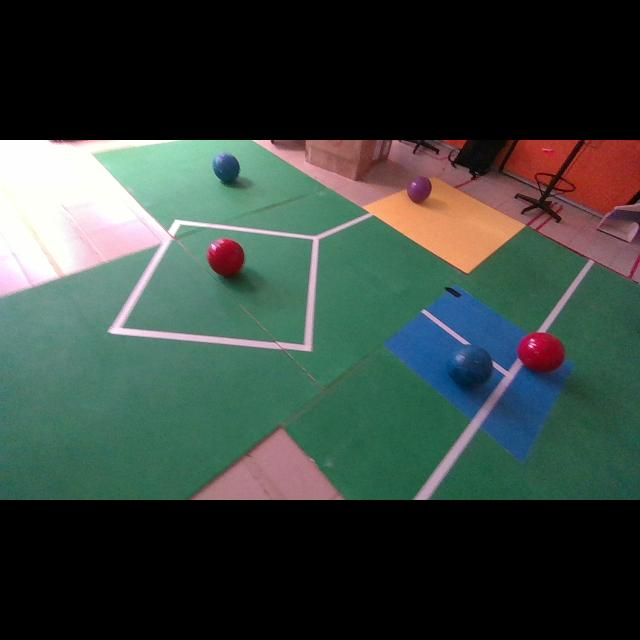B: (448, 345, 492, 387), (212, 152, 240, 183)
P: (408, 176, 431, 202)
R: (518, 332, 565, 372), (208, 239, 245, 276)
